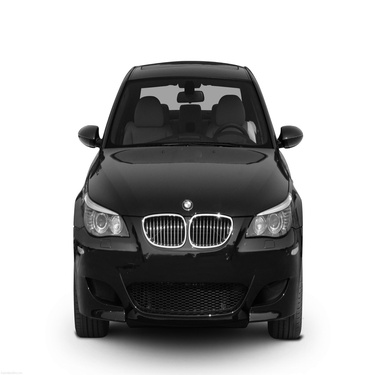car: (66, 50, 309, 344)
